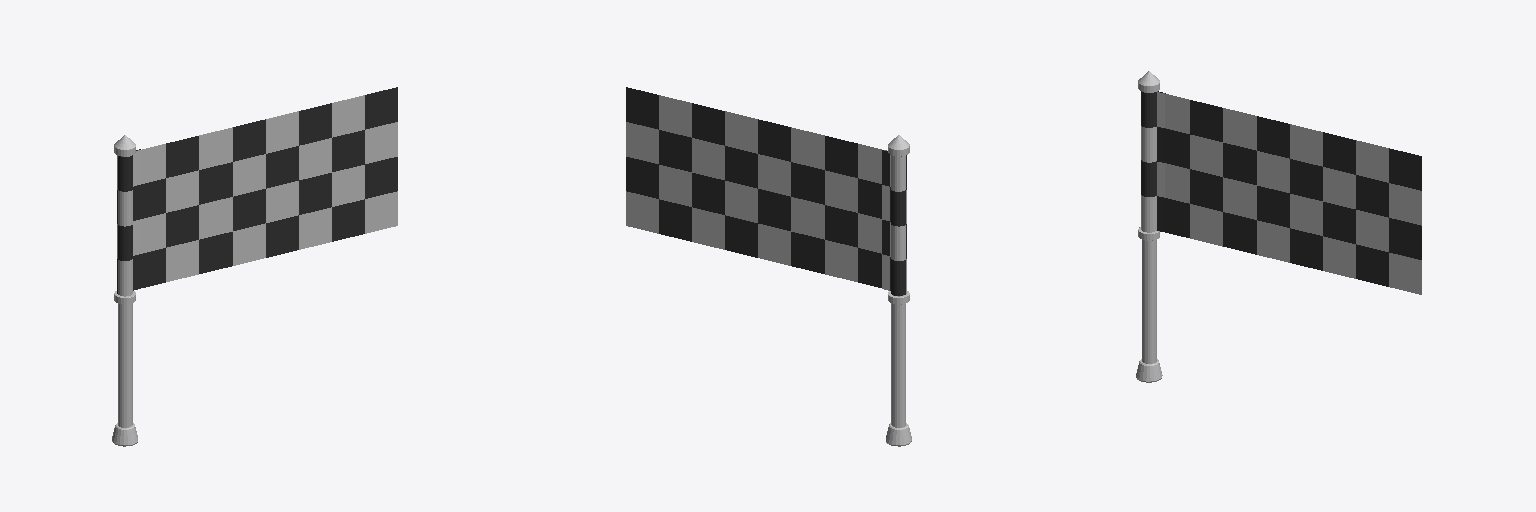
3 renders of one model, left to right at view 1: azimuth 30°, elevation 25°; view 2: azimuth 150°, elevation 25°; view 3: azimuth 330°, elevation 25°, orthographic.
Visible parts, largest first — view 1: polygon1, polygon0, polygon2; view 2: polygon0, polygon1, polygon2; view 3: polygon1, polygon0, polygon2.
Part boxes in pixels (x1,y1,x2,y2): polygon1: (117,87,397,293); polygon0: (117,95,397,295); polygon2: (112,135,137,446); polygon0: (626,95,906,293); polygon1: (626,87,906,295); polygon2: (886,135,911,446); polygon1: (1141,91,1421,286); polygon0: (1141,91,1421,294); polygon2: (1136,71,1162,382).
Bounding box in the file's own units: 5.34 × 5.49 × 0.4361.
Materials: 3 (1 with a texture image).